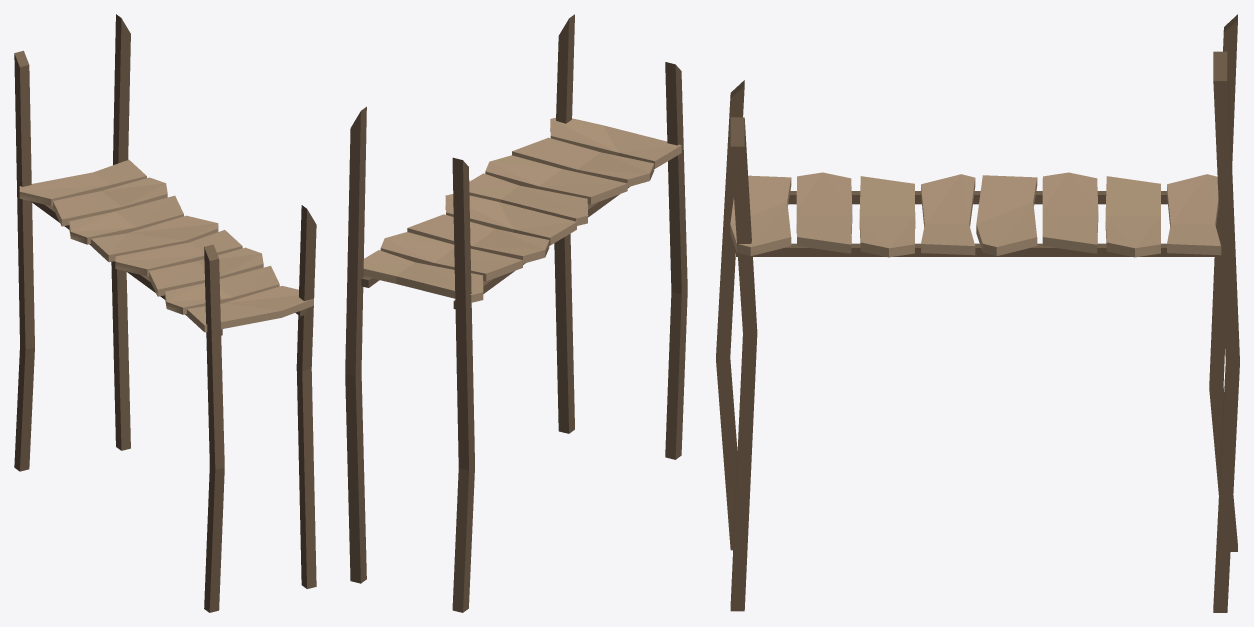
File: Bridge_2_1.fbx
3 views of the same model, side by side, from view 1: azimuth 30°, elevation 25°; view 2: azimuth 150°, elevation 25°; view 3: azimuth 270°, elevation 25° (orthographic). The views are drawn at different scales.
Parts seen in each view (by area): view 1: Bridge_2_1; view 2: Bridge_2_1; view 3: Bridge_2_1.
Part boxes in pixels (<box>): Bridge_2_1: <box>14,14,316,612</box>; Bridge_2_1: <box>345,14,687,612</box>; Bridge_2_1: <box>716,14,1239,612</box>.
Size of the model in its own units: 146 by 499 by 427.
Materials: 1 (1 with a texture image).
